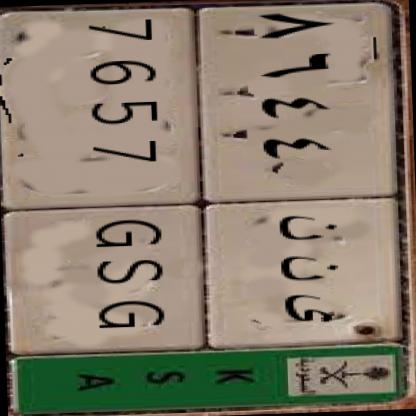english: (0, 2, 215, 359)
